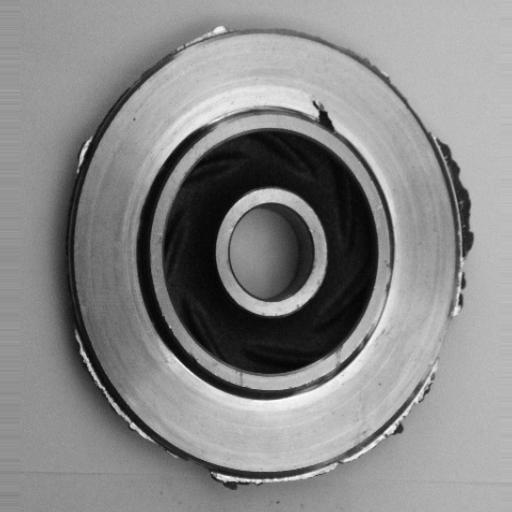casting_with_burr: (58, 22, 477, 494)
crack: (302, 91, 341, 139)
scratch: (367, 257, 393, 348)
